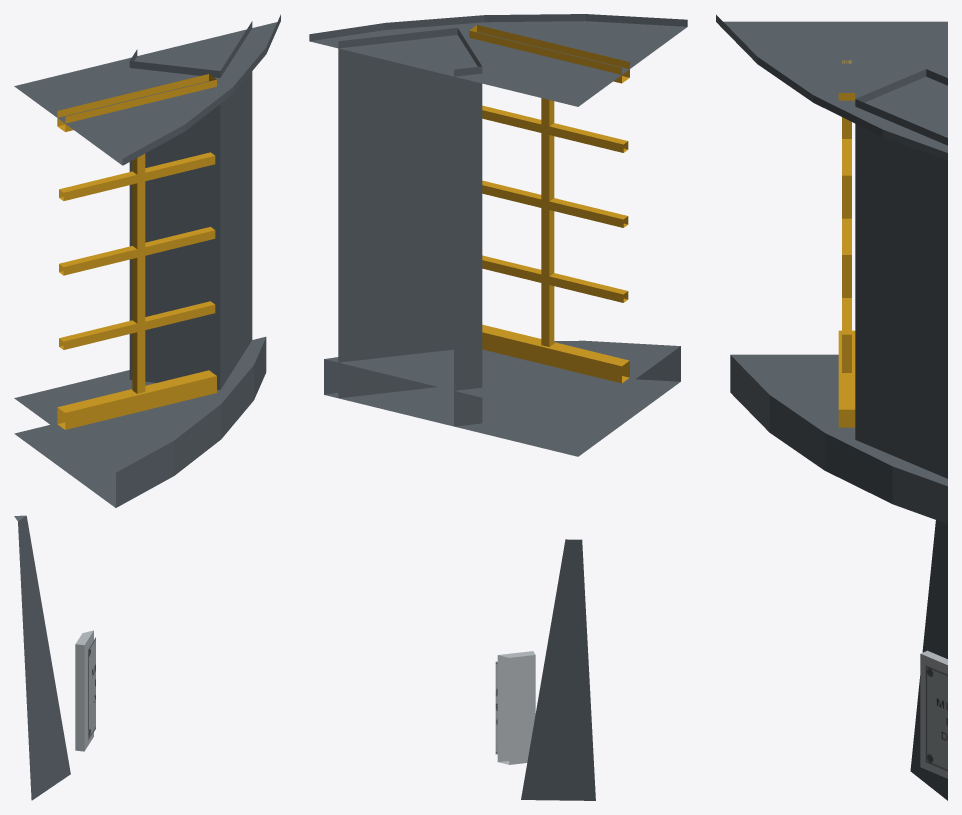
The model's file is cell_51.obj.
3 renders of one model, left to right at view 1: azimuth 30°, elevation 25°; view 2: azimuth 150°, elevation 25°; view 3: azimuth 270°, elevation 25°, orthographic. The views are drawn at different scales.
Size of the model in its own units: 0.3941 by 1 by 0.2776.
